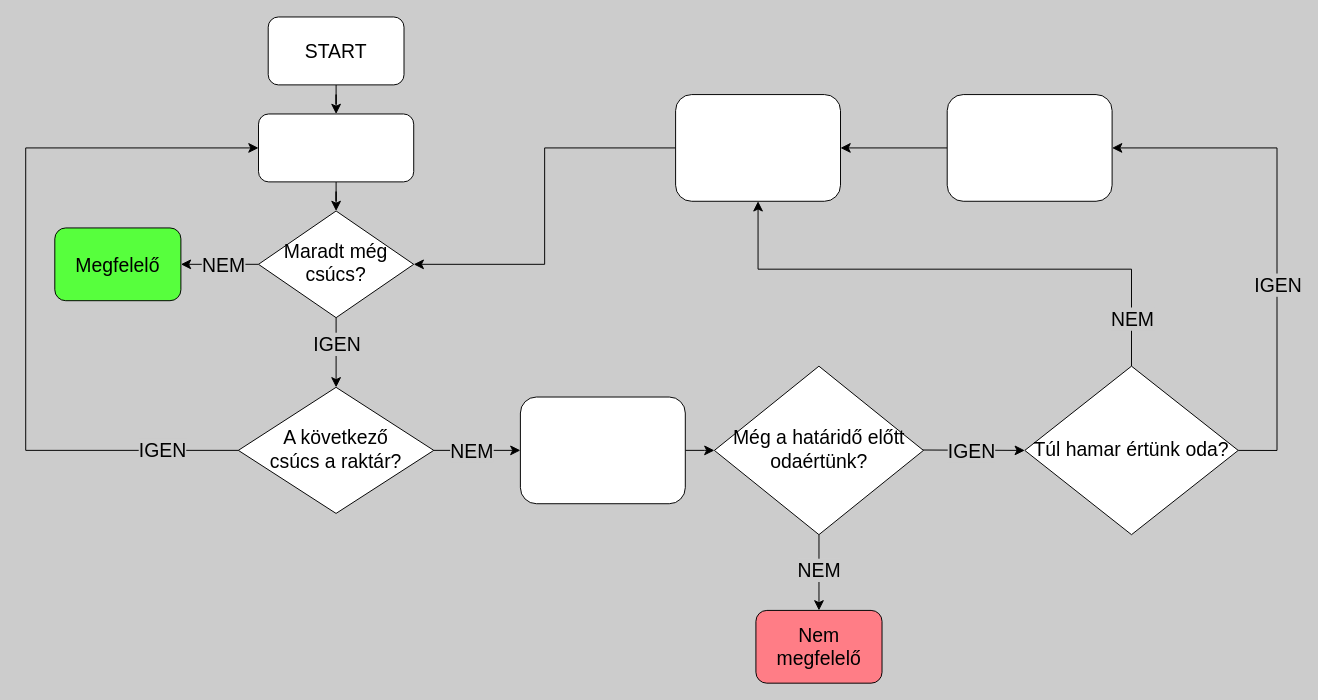
Image size: 1318x700. Some labels were removed from this diagram. Each missing label, with the box of its shape:
aktualisido := 0: (258, 113, 414, 182)
Eltelik idő, amíg odaérünk: (519, 396, 685, 504)
Eltelik idő, amíg végrehajtjuk a szolgáltatást: (675, 94, 841, 201)
Várakozunk a felhasználóra: (946, 94, 1112, 201)
